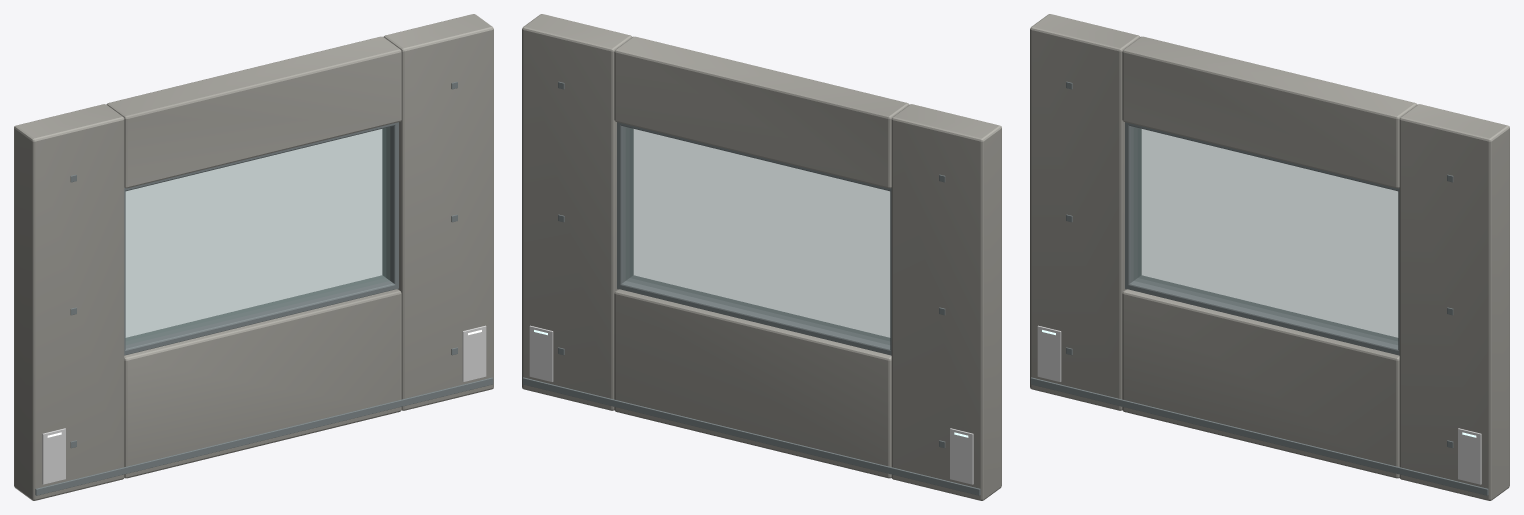
File: window.glb
The picture shows the model from 3 angles, left to right: view 1: azimuth 30°, elevation 25°; view 2: azimuth 150°, elevation 25°; view 3: azimuth 330°, elevation 25°; orthographic projection.
Parts seen in each view (by area): view 1: window_MineralConcrete, window_WindowGlass, window_EdgeSteel, window_WhiteArmour; view 2: window_MineralConcrete, window_WindowGlass, window_EdgeSteel, window_WhiteArmour; view 3: window_MineralConcrete, window_WindowGlass, window_EdgeSteel, window_WhiteArmour.
Part boxes in pixels (bbox=[...]): window_MineralConcrete: bbox=[14, 14, 493, 500]; window_WindowGlass: bbox=[126, 127, 389, 344]; window_EdgeSteel: bbox=[35, 81, 493, 495]; window_WhiteArmour: bbox=[42, 325, 486, 484]; window_MineralConcrete: bbox=[522, 14, 1001, 500]; window_WindowGlass: bbox=[626, 127, 889, 344]; window_EdgeSteel: bbox=[522, 81, 980, 495]; window_WhiteArmour: bbox=[529, 325, 973, 484]; window_MineralConcrete: bbox=[1030, 14, 1509, 500]; window_WindowGlass: bbox=[1134, 127, 1397, 344]; window_EdgeSteel: bbox=[1030, 81, 1488, 495]; window_WhiteArmour: bbox=[1037, 325, 1481, 484].
Size of the model in its own units: 4 by 3 by 0.326.
